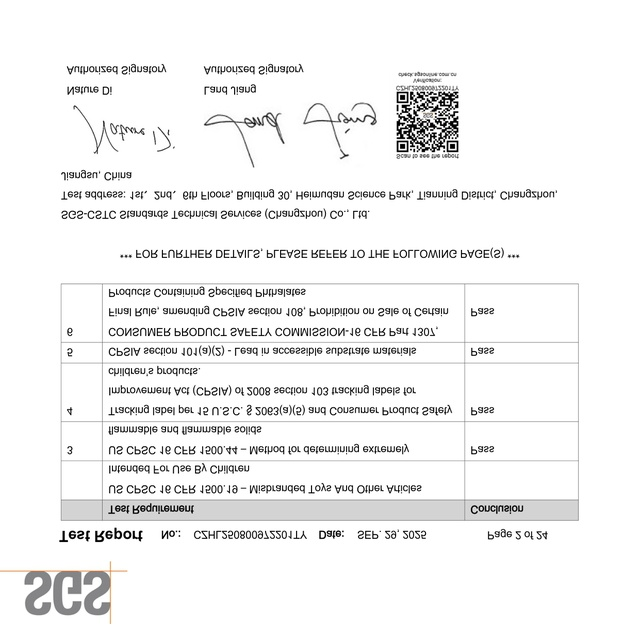sgs: (24, 569, 111, 617)
